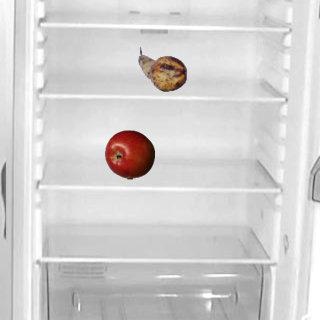Apple Braeburn: (104, 129, 154, 179)
Pear Abate: (137, 44, 187, 94)
